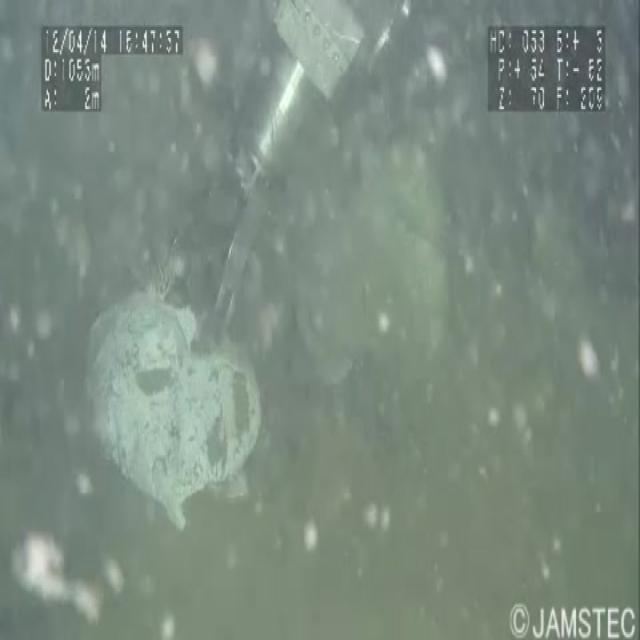Plastic: (76, 279, 267, 539)
